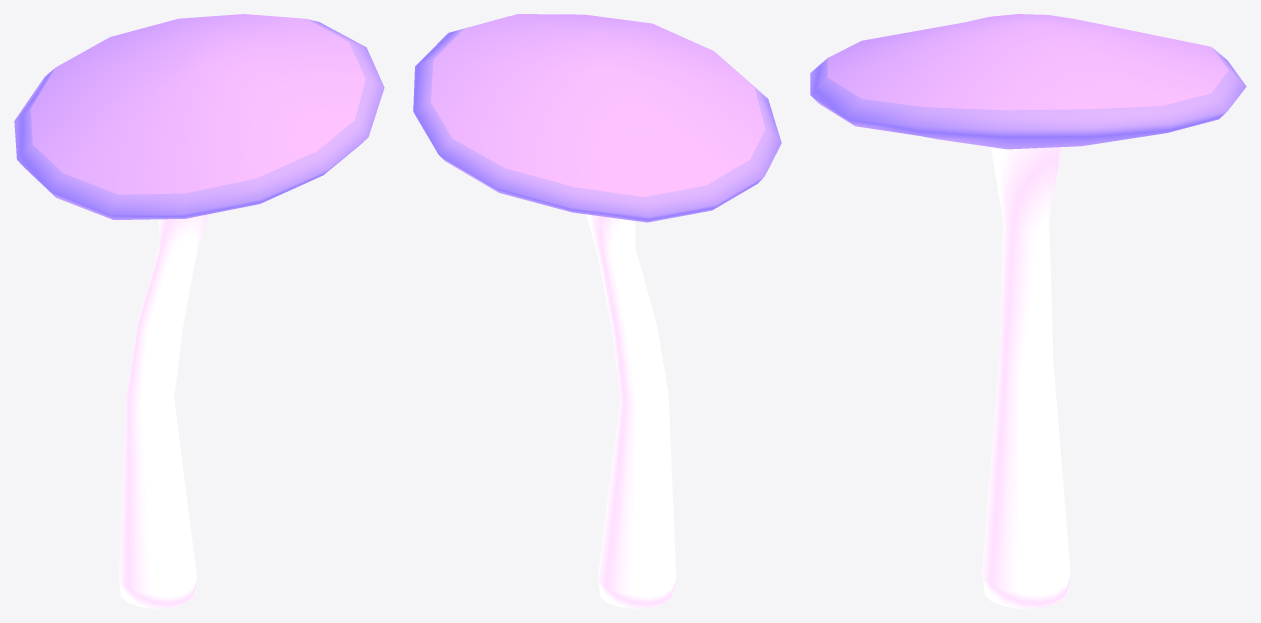
File: cogumelo_P3.fbx
3 renders of one model, left to right at view 1: azimuth 30°, elevation 25°; view 2: azimuth 150°, elevation 25°; view 3: azimuth 270°, elevation 25°, orthographic. The views are drawn at different scales.
Parts seen in each view (by area): view 1: cogu_P3; view 2: cogu_P3; view 3: cogu_P3.
Part boxes in pixels (bbox=[...]): cogu_P3: bbox=[14, 14, 384, 608]; cogu_P3: bbox=[413, 14, 781, 608]; cogu_P3: bbox=[810, 14, 1246, 608].
Size of the model in its own units: 203 by 214 by 321.
